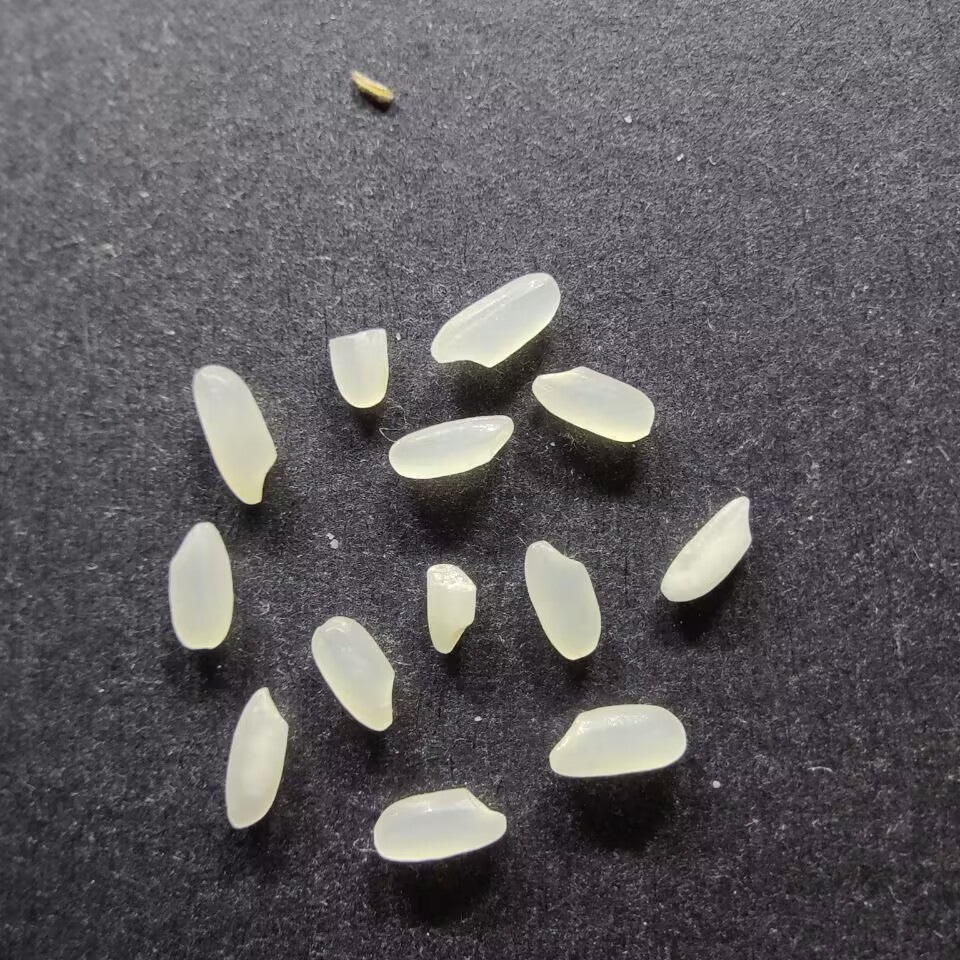broken: (422, 562, 478, 657), (327, 327, 391, 409)
others: (347, 63, 396, 104)
rice: (429, 268, 564, 369), (188, 364, 282, 507), (546, 701, 688, 780), (370, 785, 509, 864), (658, 492, 755, 604), (308, 615, 398, 732), (522, 538, 605, 661), (530, 364, 655, 444), (222, 685, 289, 830), (166, 519, 235, 652), (387, 412, 515, 482)
